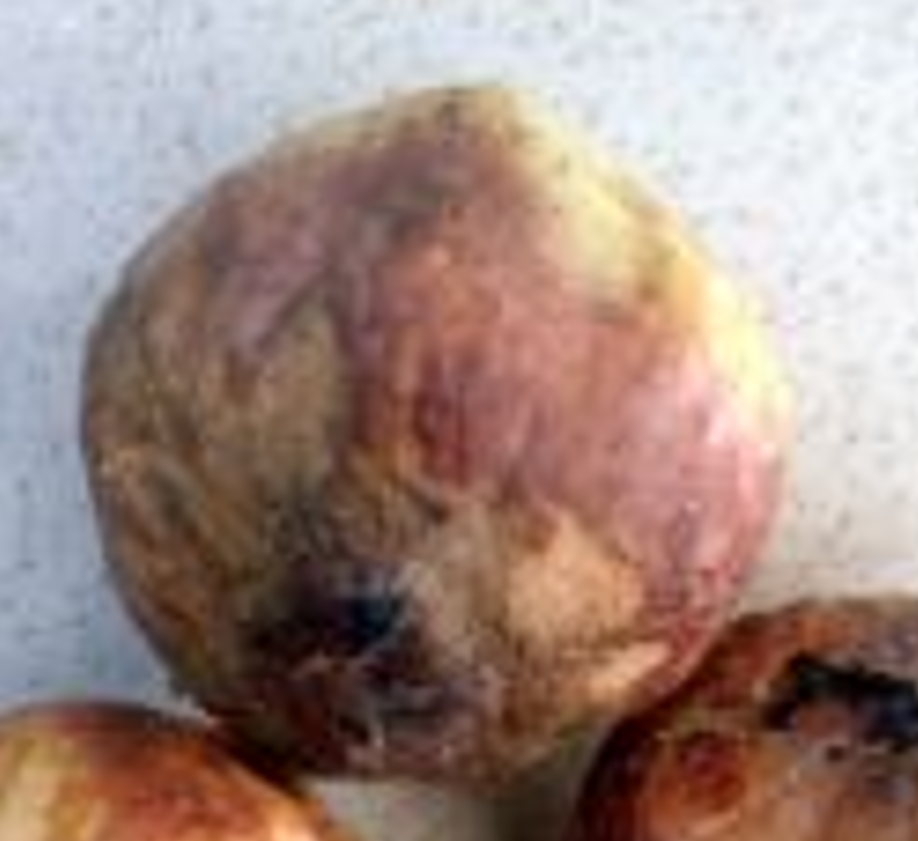guava_C: (80, 89, 797, 789)
